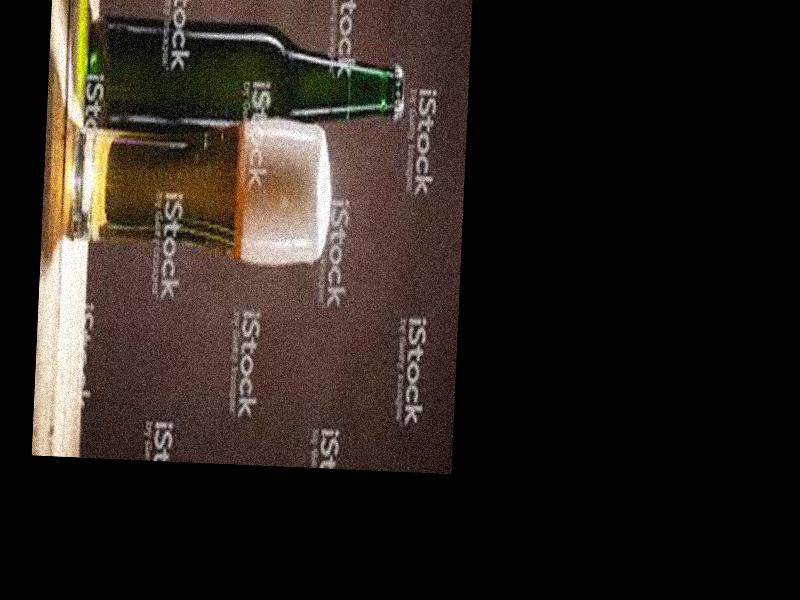Beer: (83, 14, 406, 144)
